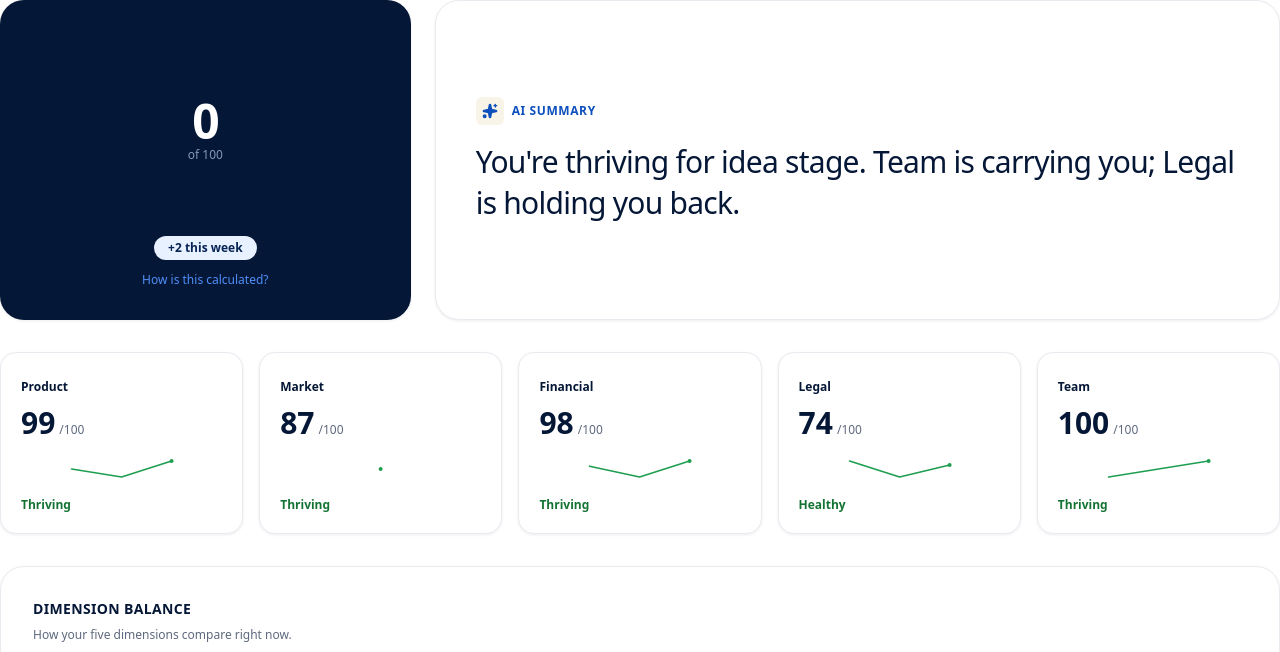
Overview › opens an accessible calculation dialog and closes on Escape
Click the button "How is this calculated?": (205, 280) [142, 272, 268, 288]
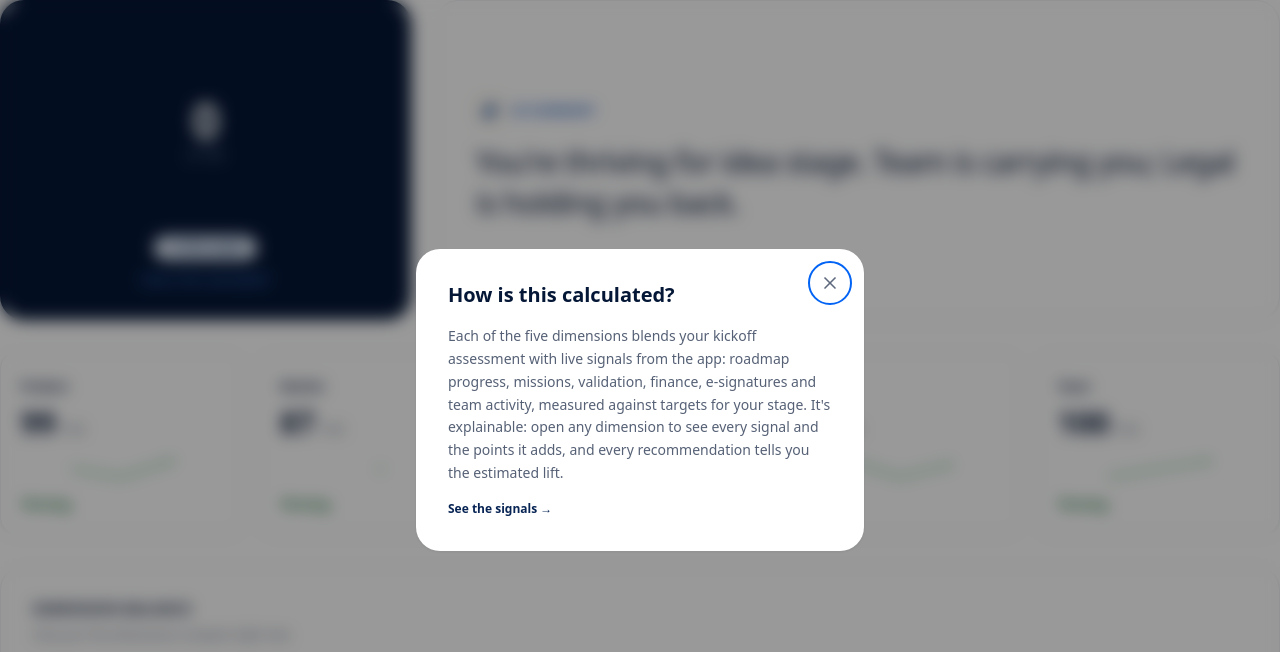
expect the dialog "How is this calculated?" is shown: met, box [416, 249, 864, 551]
Press Escape
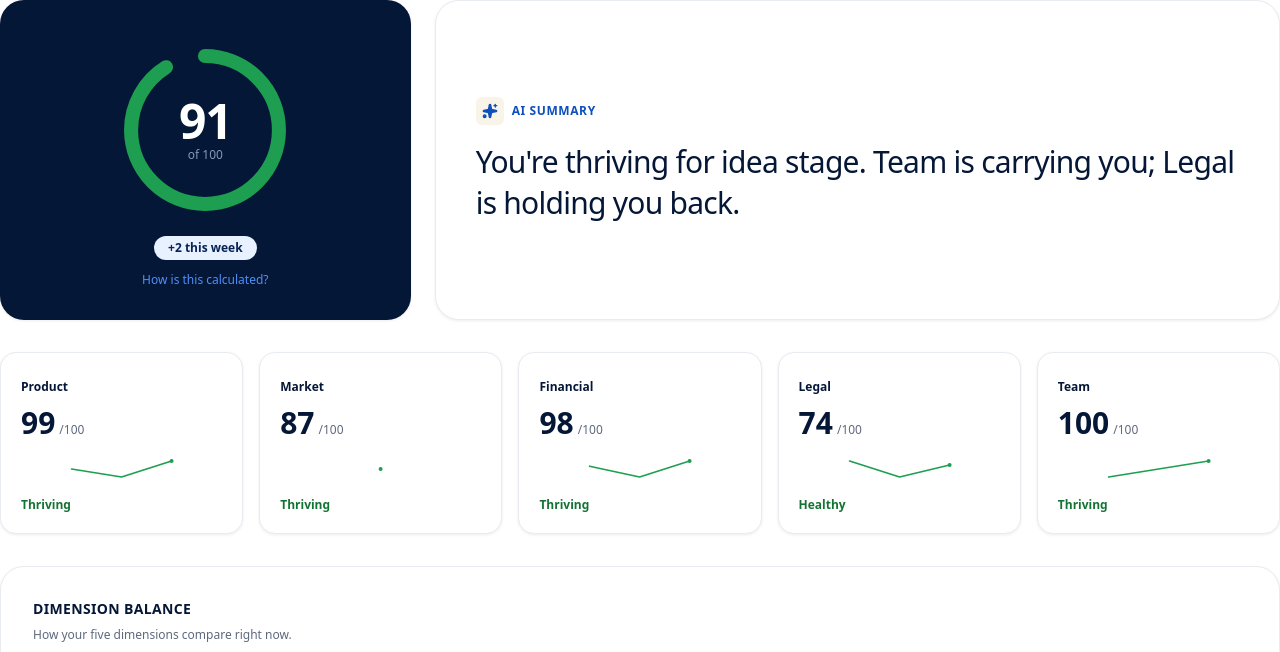
expect the dialog is gone: met
